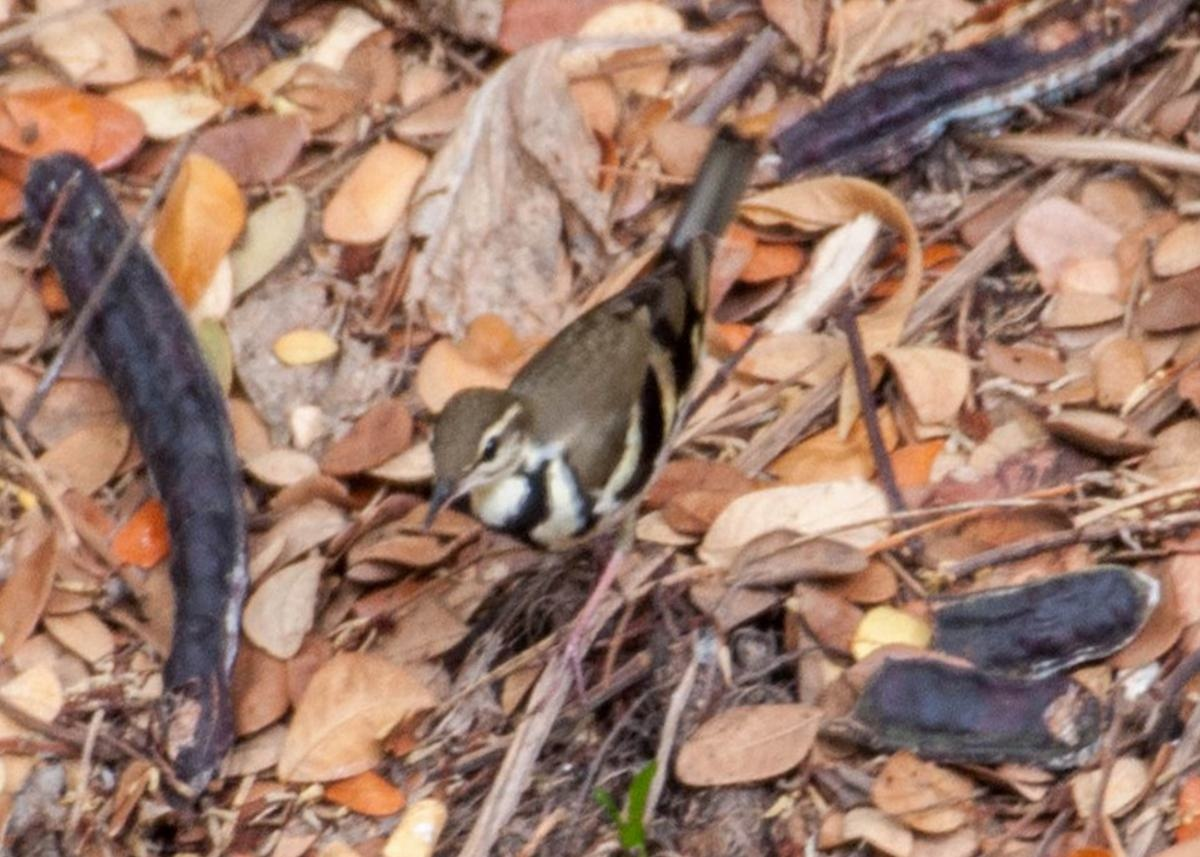wagtail: (401, 193, 745, 579)
